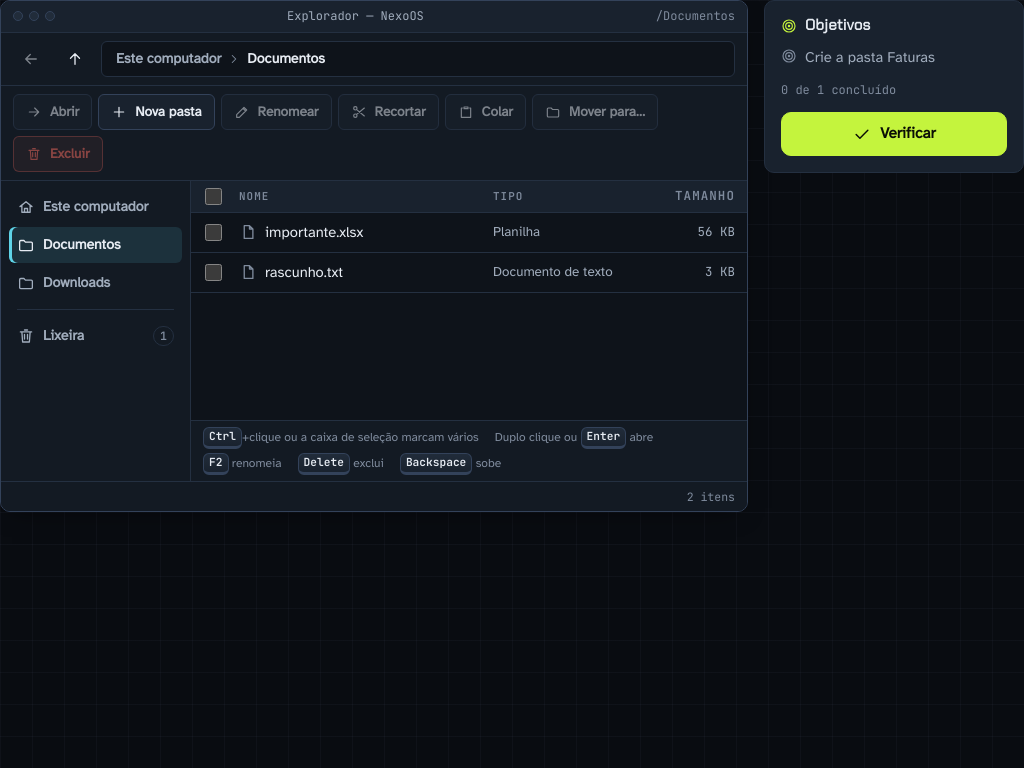
Scenario: FilesystemChallenge › esvazia a Lixeira só depois de confirmar
Click the button "Lixeira 1" at [96, 336], box [9,318,182,354]
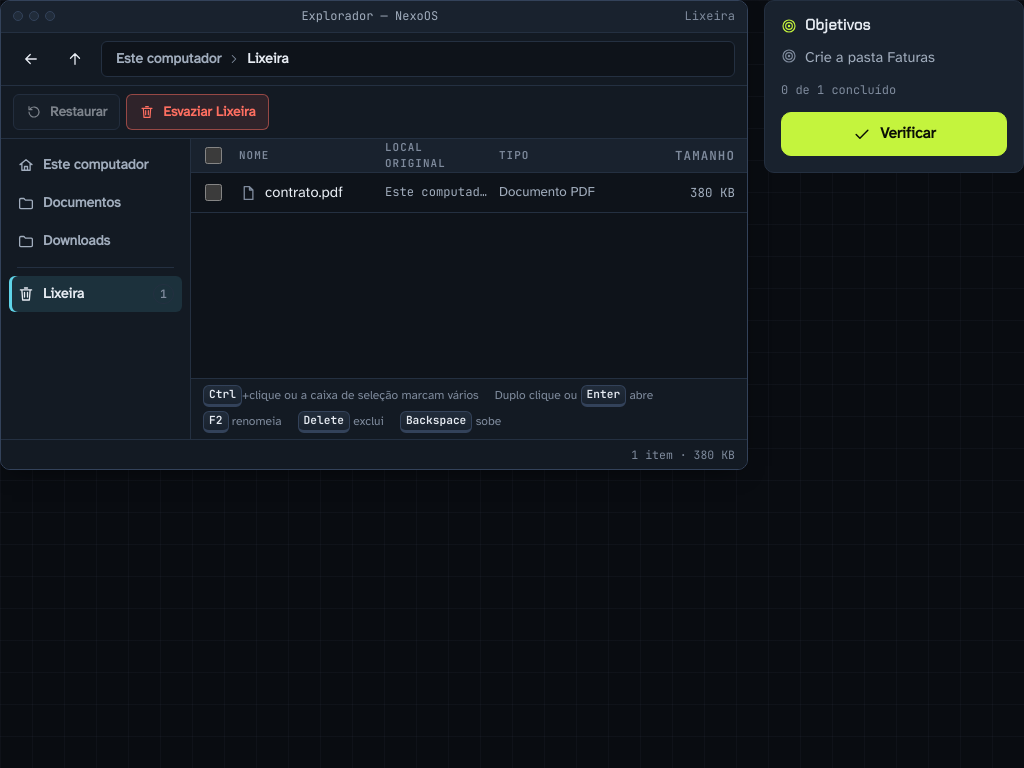
Click the button "Esvaziar Lixeira" at [197, 112], box [126,94,269,130]
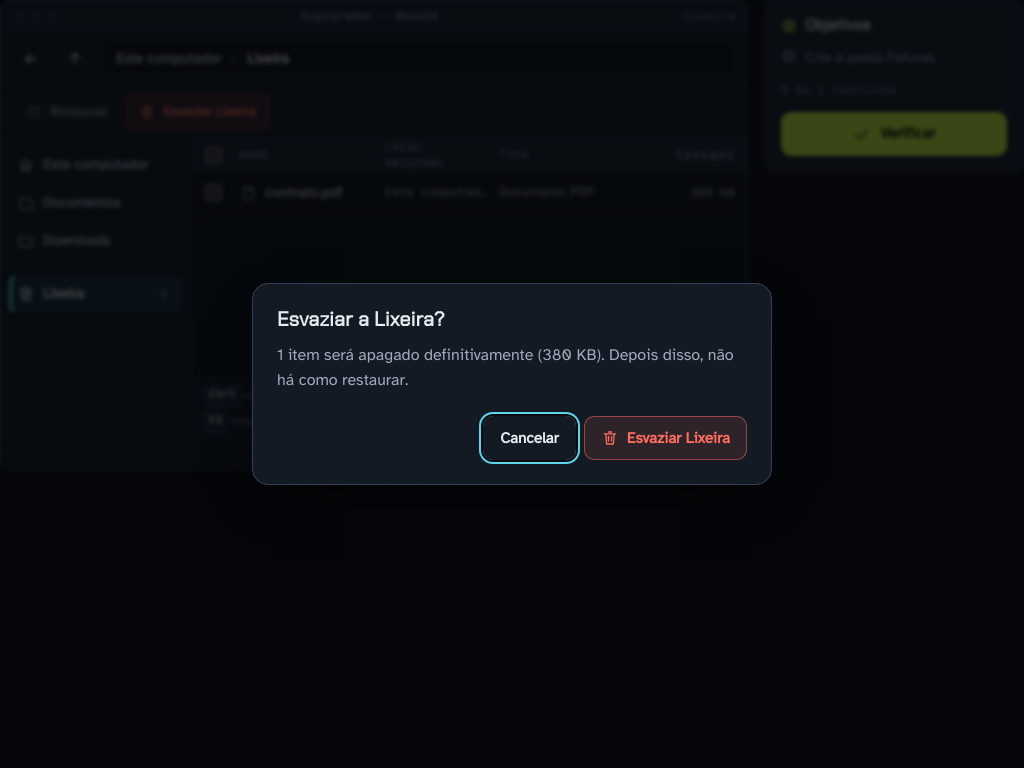
Click the button "Cancelar" at [529, 438], box [483,416,576,460]
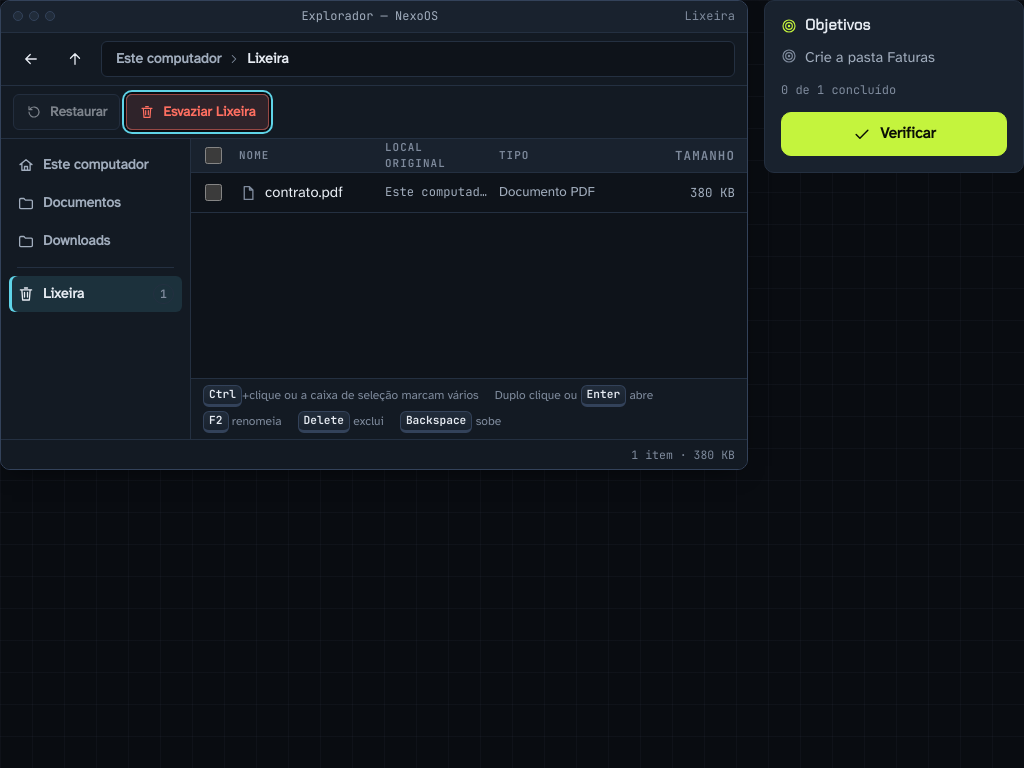
Expected: the row named "contrato.pdf," is shown, [191,173,747,213]
Click the button "Esvaziar Lixeira" at [197, 112], box [126,94,269,130]
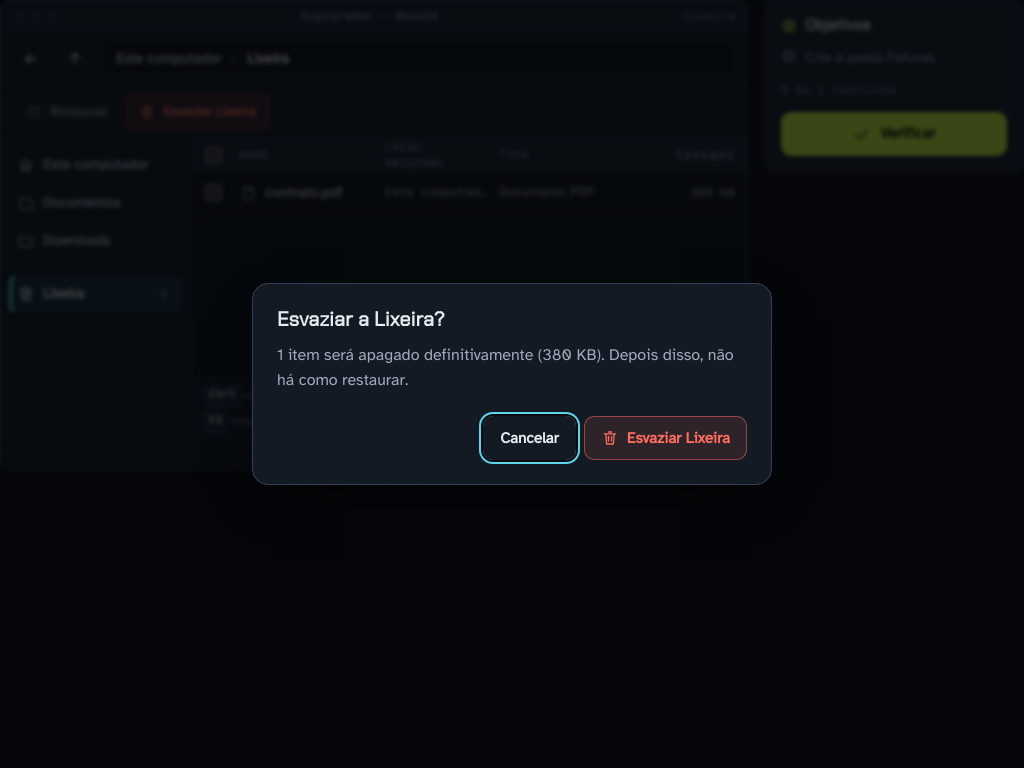
Click the button "Esvaziar Lixeira" at [665, 438], box [584,416,747,460]
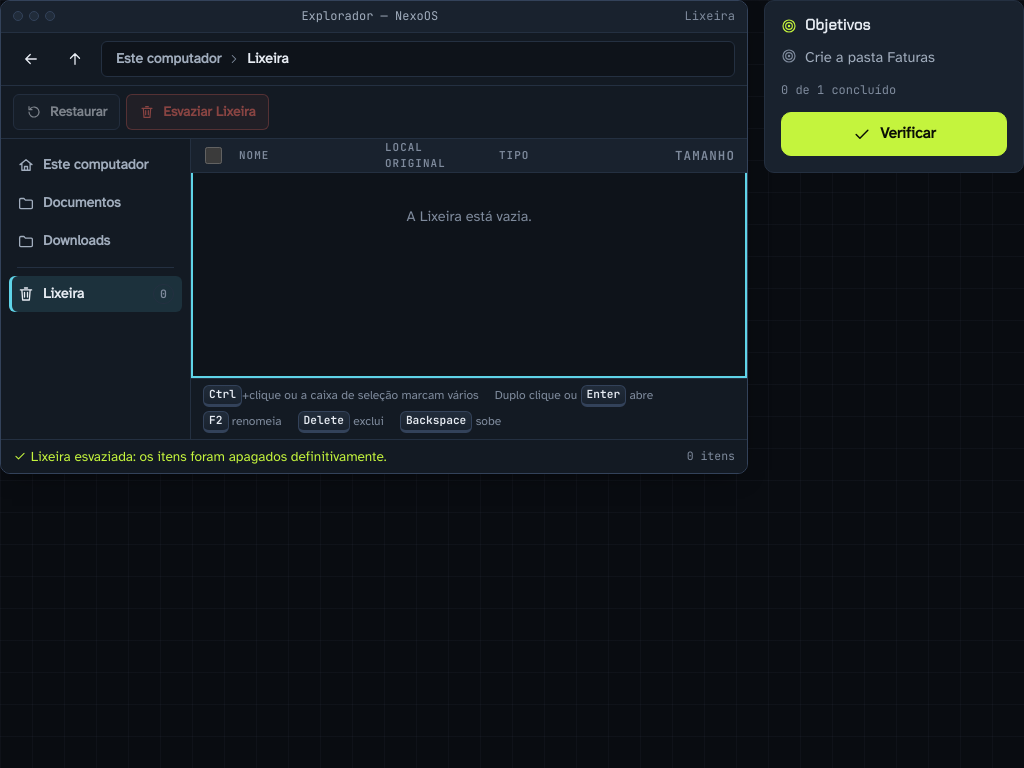
Expected: the dialog is gone
Expected: the text "A Lixeira está vazia." is shown, [407,207,531,225]
